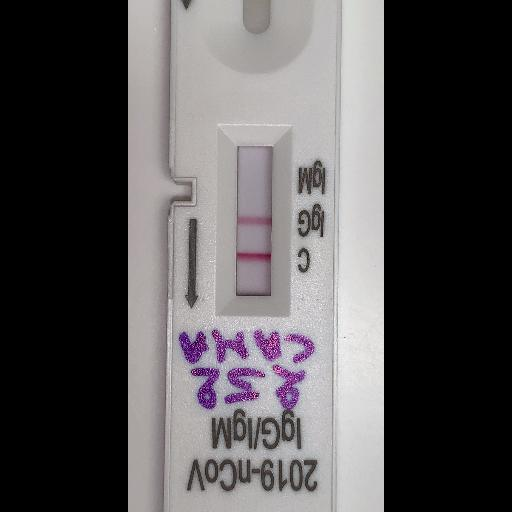Pos: (172, 0, 332, 510)
